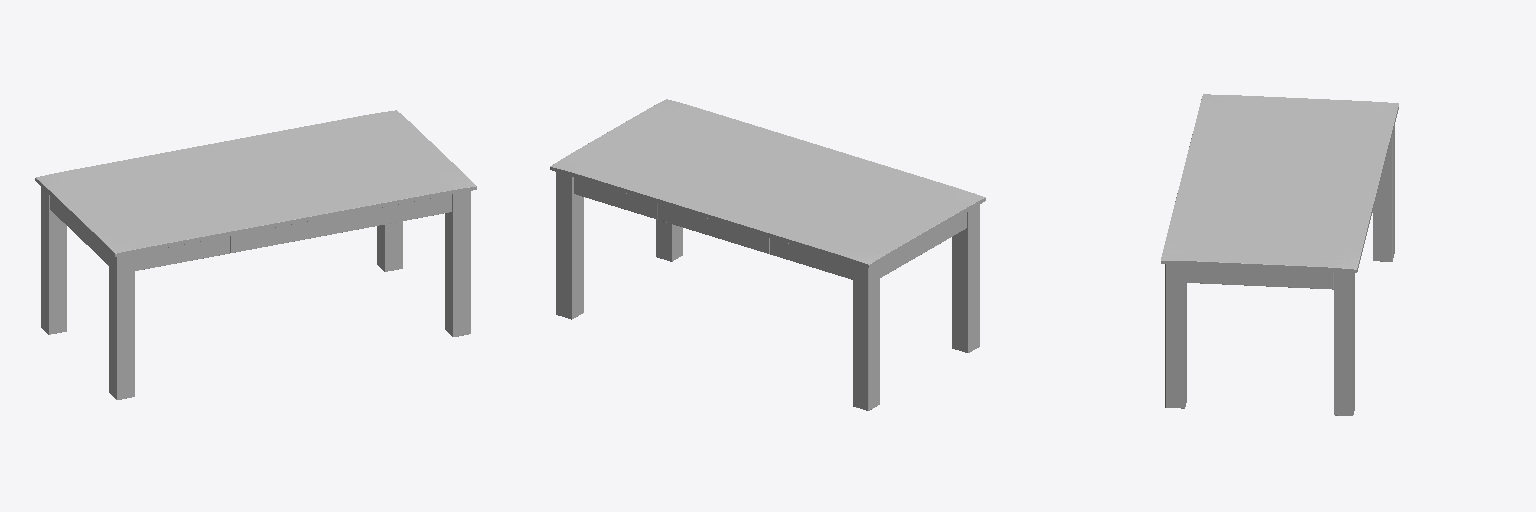
Rendered from table.obj.
3 renders of one model, left to right at view 1: azimuth 30°, elevation 25°; view 2: azimuth 150°, elevation 25°; view 3: azimuth 270°, elevation 25°, orthographic.
Parts seen in each view (by area): view 1: Table; view 2: Table; view 3: Table.
Part boxes in pixels (x1,y1,x2,y2): Table: (35,110,476,399); Table: (550,99,985,410); Table: (1161,94,1398,415).
Size of the model in its own units: 20.79 by 8.29 by 11.98.